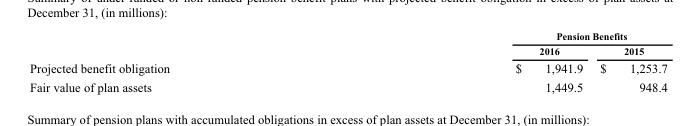table: (28, 28, 666, 95)
table column: (28, 28, 341, 95), (341, 28, 590, 95), (590, 28, 666, 95)
table column header: (28, 28, 666, 58)
table row: (28, 58, 666, 77), (28, 77, 666, 95), (28, 42, 666, 58), (28, 28, 666, 42)
table spanning cell: (341, 28, 666, 42)
